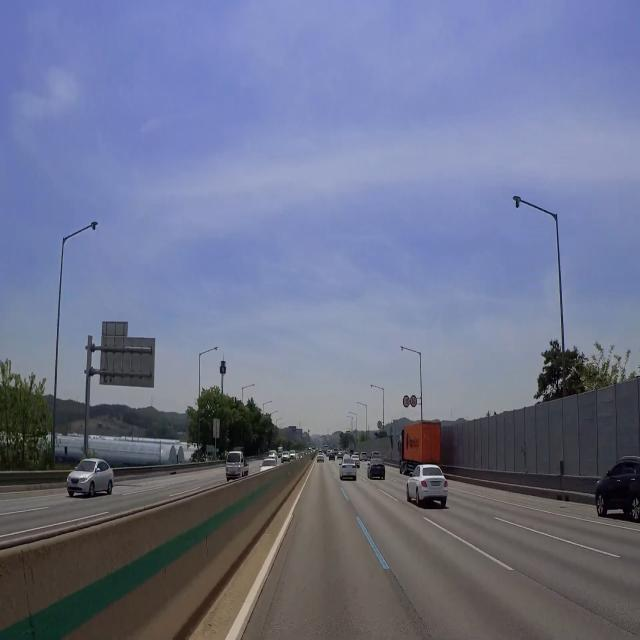car: (429, 472, 444, 494), (229, 468, 238, 478)
